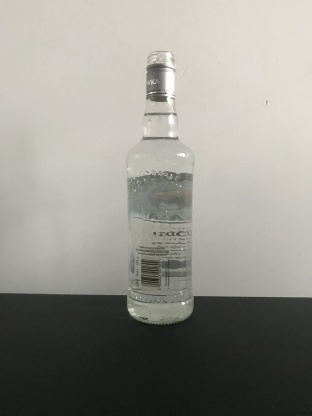nakretka: (143, 46, 177, 104)
